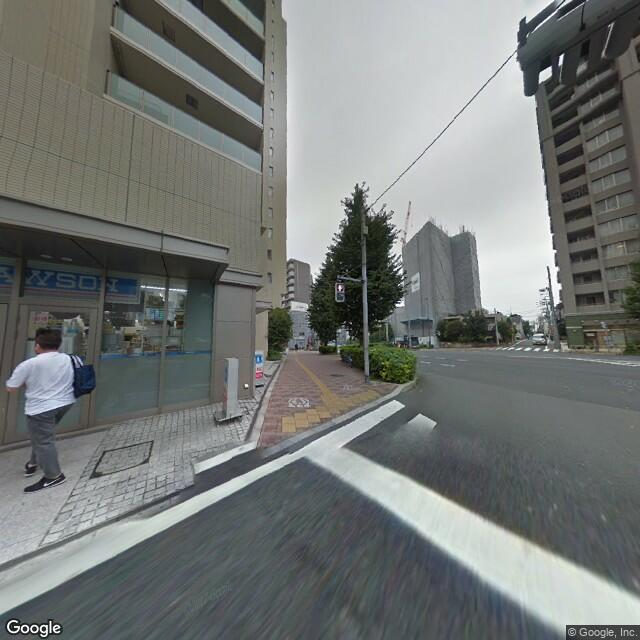lawson: (2, 254, 139, 305), (253, 345, 264, 369)
